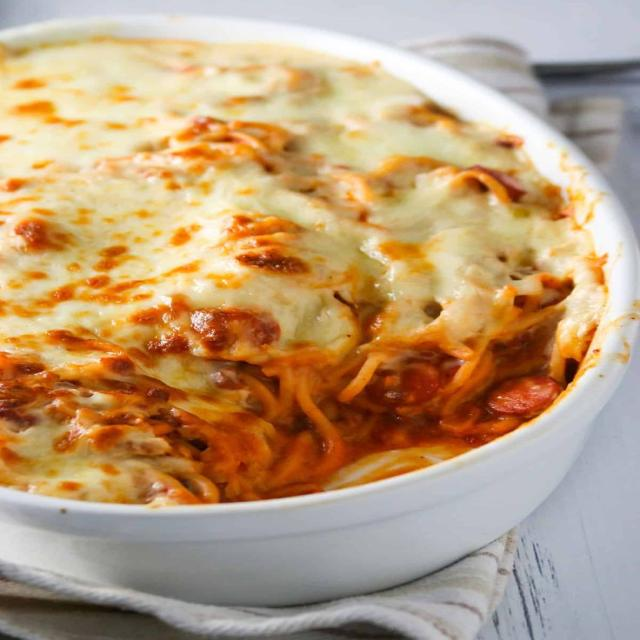Bechamel: (2, 4, 604, 545)
